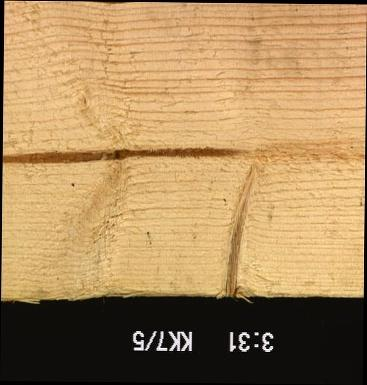small_knot: (60, 177, 81, 196)
